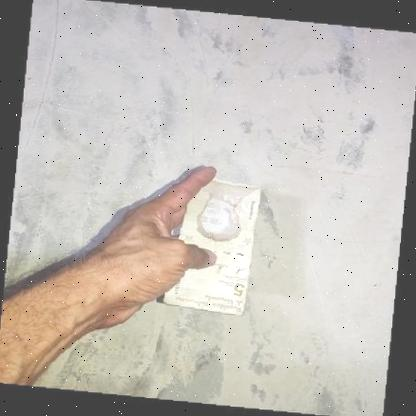vef_front: (162, 174, 262, 316)
